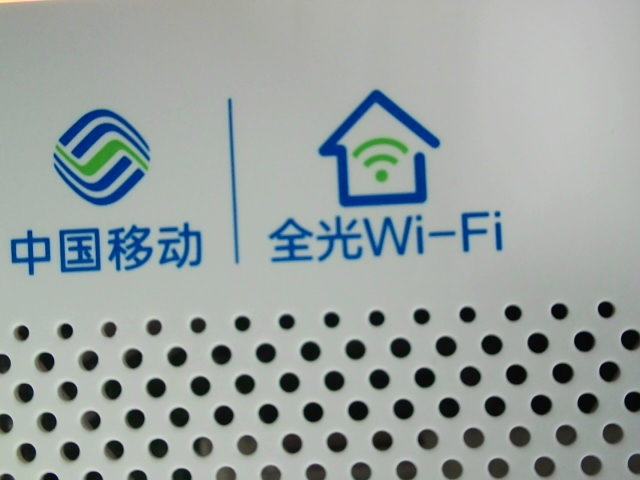BJ_QuanGuangMobile: (10, 83, 509, 269)
